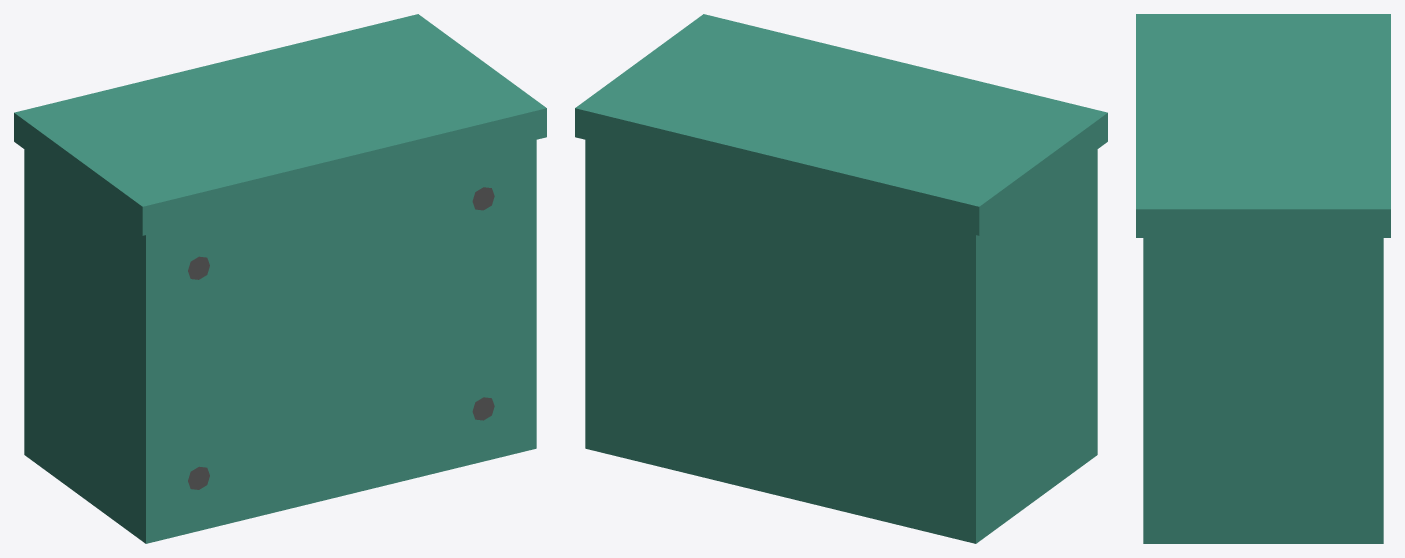
Rendered from storage_box_5.fbx.
The picture shows the model from 3 angles, left to right: view 1: azimuth 30°, elevation 25°; view 2: azimuth 150°, elevation 25°; view 3: azimuth 270°, elevation 25°; orthographic projection.
Parts seen in each view (by area): view 1: storage_box_5; view 2: storage_box_5; view 3: storage_box_5.
Boxes of the visible parts, x1,y1,x2,y2 form: storage_box_5: (14, 14, 546, 543); storage_box_5: (575, 14, 1107, 543); storage_box_5: (1136, 14, 1390, 543).
Size of the model in its own units: 21.36 by 11.78 by 17.24.
